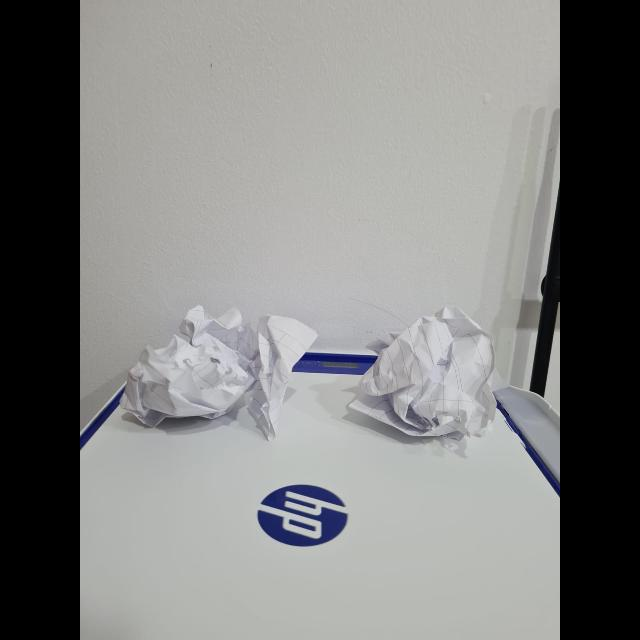trash: (124, 302, 314, 438), (364, 302, 501, 453)
